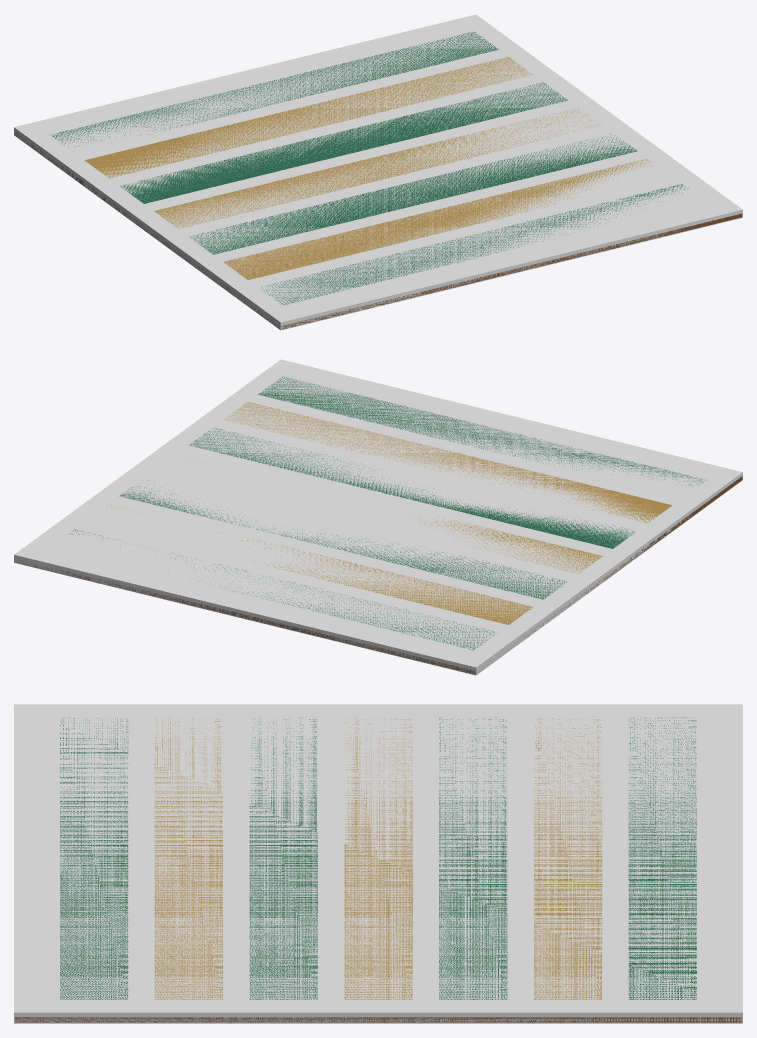
The model's file is flooring_boutique.glb.
3 views of the same model, one above another, from view 1: azimuth 30°, elevation 25°; view 2: azimuth 150°, elevation 25°; view 3: azimuth 270°, elevation 25° (orthographic). The views are drawn at different scales.
Visible parts, largest first — view 1: COL_flooring, MESH_WalnutPlank.004, MESH_WalnutPlank.005, MESH_WalnutPlank.002, MESH_WalnutPlank.001, MESH_WalnutPlank.003, MESH_WalnutPlank.006, MESH_WalnutPlank, MESH_FinishBase; view 2: COL_flooring, MESH_WalnutPlank.001, MESH_WalnutPlank, MESH_WalnutPlank.002, MESH_WalnutPlank.005, MESH_WalnutPlank.004, MESH_WalnutPlank.003, MESH_FinishBase, MESH_WalnutPlank.006; view 3: COL_flooring, MESH_WalnutPlank, MESH_WalnutPlank.002, MESH_WalnutPlank.001, MESH_WalnutPlank.006, MESH_WalnutPlank.003, MESH_WalnutPlank.005, MESH_WalnutPlank.004, MESH_FinishBase.
Part boxes in pixels (x1=…): COL_flooring: x1=14, y1=14, x2=742, y2=330; MESH_WalnutPlank.004: x1=120, y1=82, x2=567, y2=203; MESH_WalnutPlank.005: x1=85, y1=57, x2=533, y2=178; MESH_WalnutPlank.002: x1=190, y1=134, x2=637, y2=254; MESH_WalnutPlank.001: x1=223, y1=159, x2=651, y2=279; MESH_WalnutPlank.003: x1=154, y1=108, x2=602, y2=228; MESH_WalnutPlank.006: x1=50, y1=31, x2=498, y2=146; MESH_WalnutPlank: x1=261, y1=184, x2=688, y2=304; MESH_FinishBase: x1=15, y1=133, x2=742, y2=329; COL_flooring: x1=14, y1=359, x2=742, y2=675; MESH_WalnutPlank.001: x1=224, y1=402, x2=671, y2=523; MESH_WalnutPlank: x1=258, y1=376, x2=706, y2=486; MESH_WalnutPlank.002: x1=189, y1=427, x2=634, y2=548; MESH_WalnutPlank.005: x1=111, y1=504, x2=532, y2=624; MESH_WalnutPlank.004: x1=119, y1=485, x2=566, y2=599; MESH_WalnutPlank.003: x1=193, y1=459, x2=602, y2=573; MESH_FinishBase: x1=17, y1=476, x2=742, y2=674; MESH_WalnutPlank.006: x1=67, y1=529, x2=494, y2=650; COL_flooring: x1=14, y1=704, x2=742, y2=1023; MESH_WalnutPlank: x1=60, y1=717, x2=128, y2=999; MESH_WalnutPlank.002: x1=249, y1=719, x2=317, y2=999; MESH_WalnutPlank.001: x1=154, y1=717, x2=222, y2=999; MESH_WalnutPlank.006: x1=628, y1=717, x2=696, y2=999; MESH_WalnutPlank.003: x1=344, y1=717, x2=412, y2=999; MESH_WalnutPlank.005: x1=534, y1=717, x2=602, y2=999; MESH_WalnutPlank.004: x1=439, y1=717, x2=507, y2=999; MESH_FinishBase: x1=15, y1=1017, x2=741, y2=1022.
Size of the model in its own units: 2.4 by 0.04 by 2.4.
